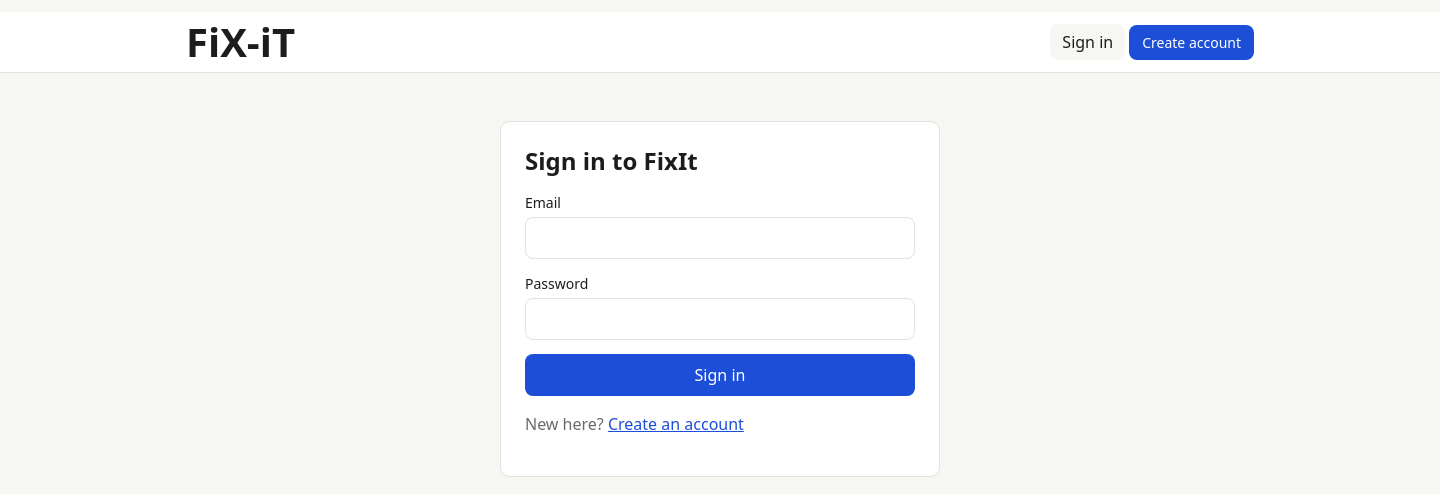
Test: signing in › sends signed-out visitors of a protected page to sign in, then back to that page
Type "landlord@fixit.test" into the field labelled "Email". click: (720, 238)
box: [525,217,915,259]
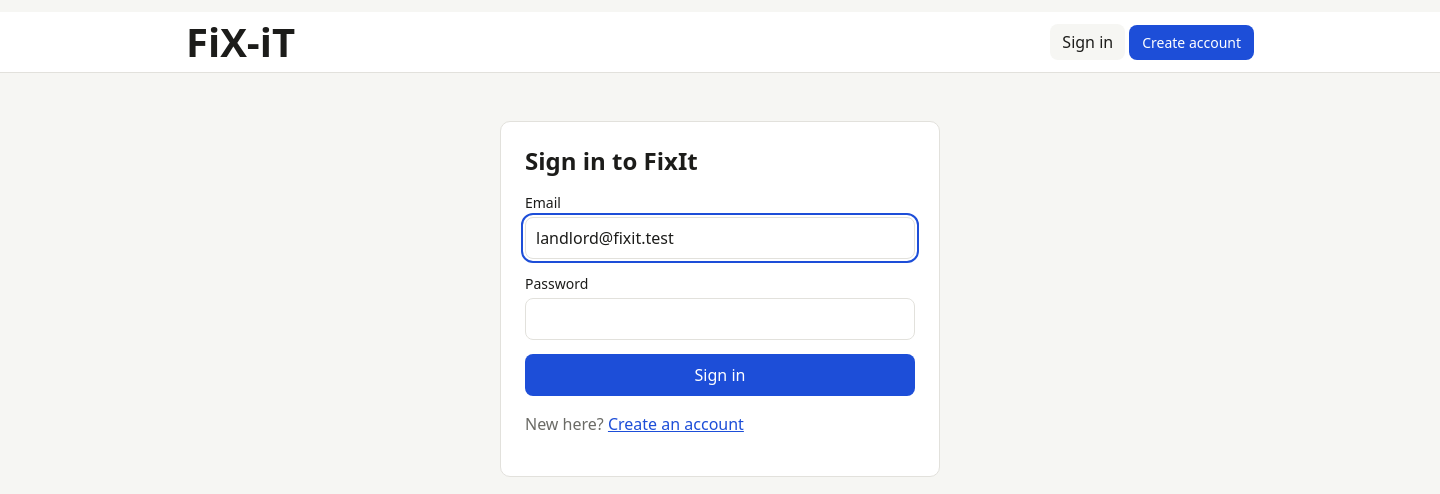
Type "password123" into the password field labelled "Password". click: (720, 319)
box: [525,298,915,340]
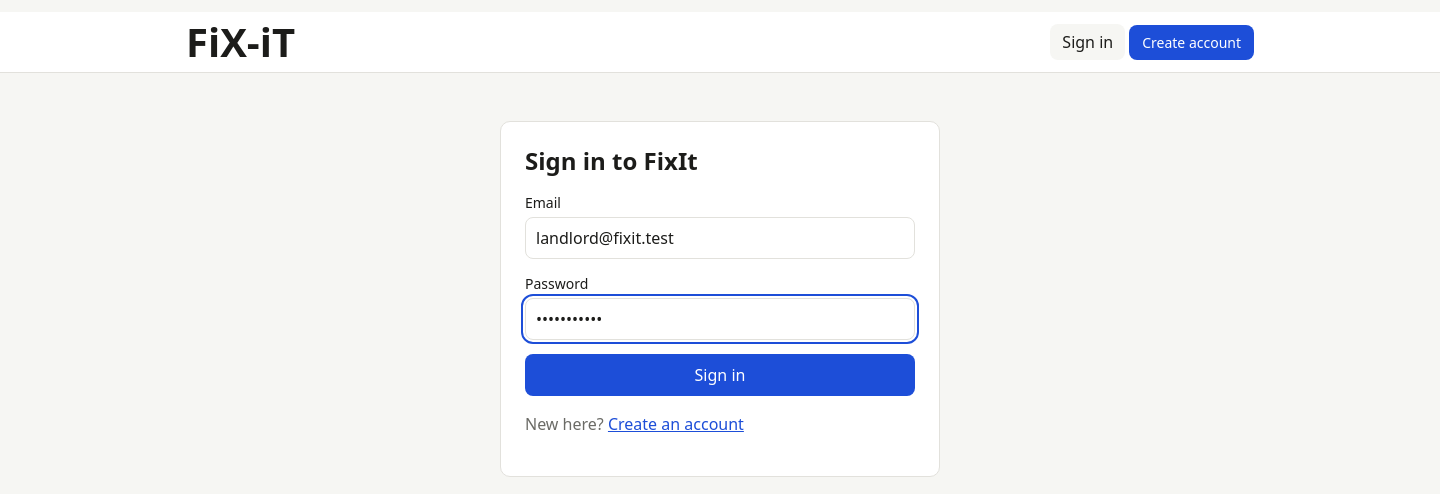
Click the button "Sign in". click: click(720, 375)
box: [525,354,915,396]
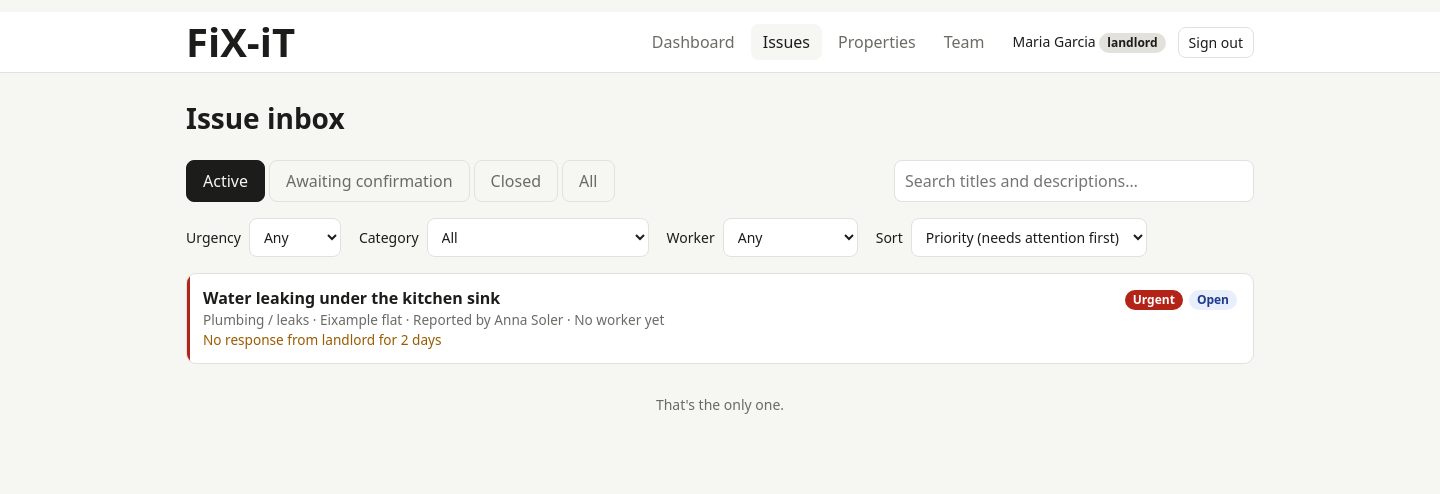
Result: the heading "Issue inbox" is shown at [186,101,345,136]
